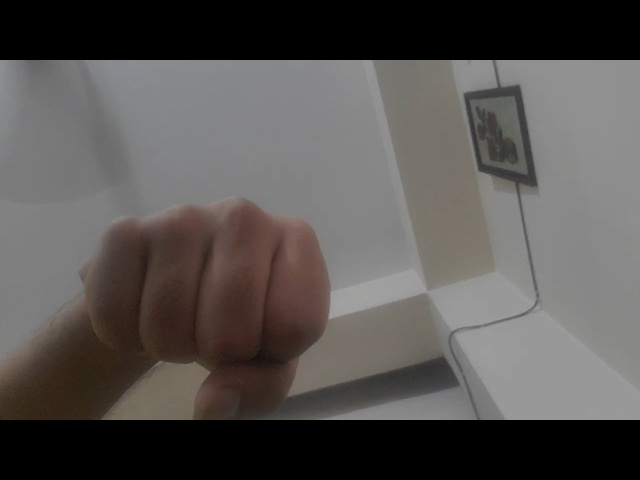Yes: (44, 187, 349, 417)
